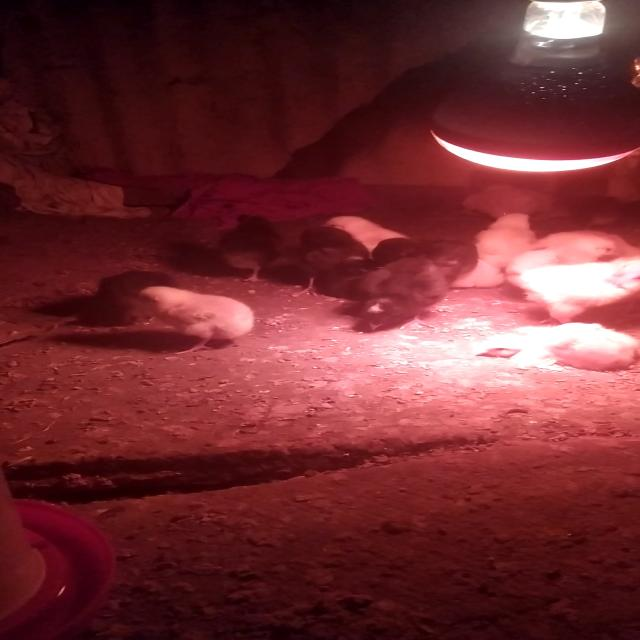chick: (476, 321, 640, 374), (140, 286, 258, 357), (353, 256, 448, 339), (517, 262, 640, 326), (294, 226, 372, 299), (511, 234, 618, 282), (218, 212, 284, 284), (376, 234, 474, 280), (99, 270, 176, 325), (314, 215, 414, 252), (480, 210, 538, 264), (464, 182, 552, 217), (570, 197, 634, 226), (452, 258, 510, 287)
objects: (420, 0, 640, 174)
